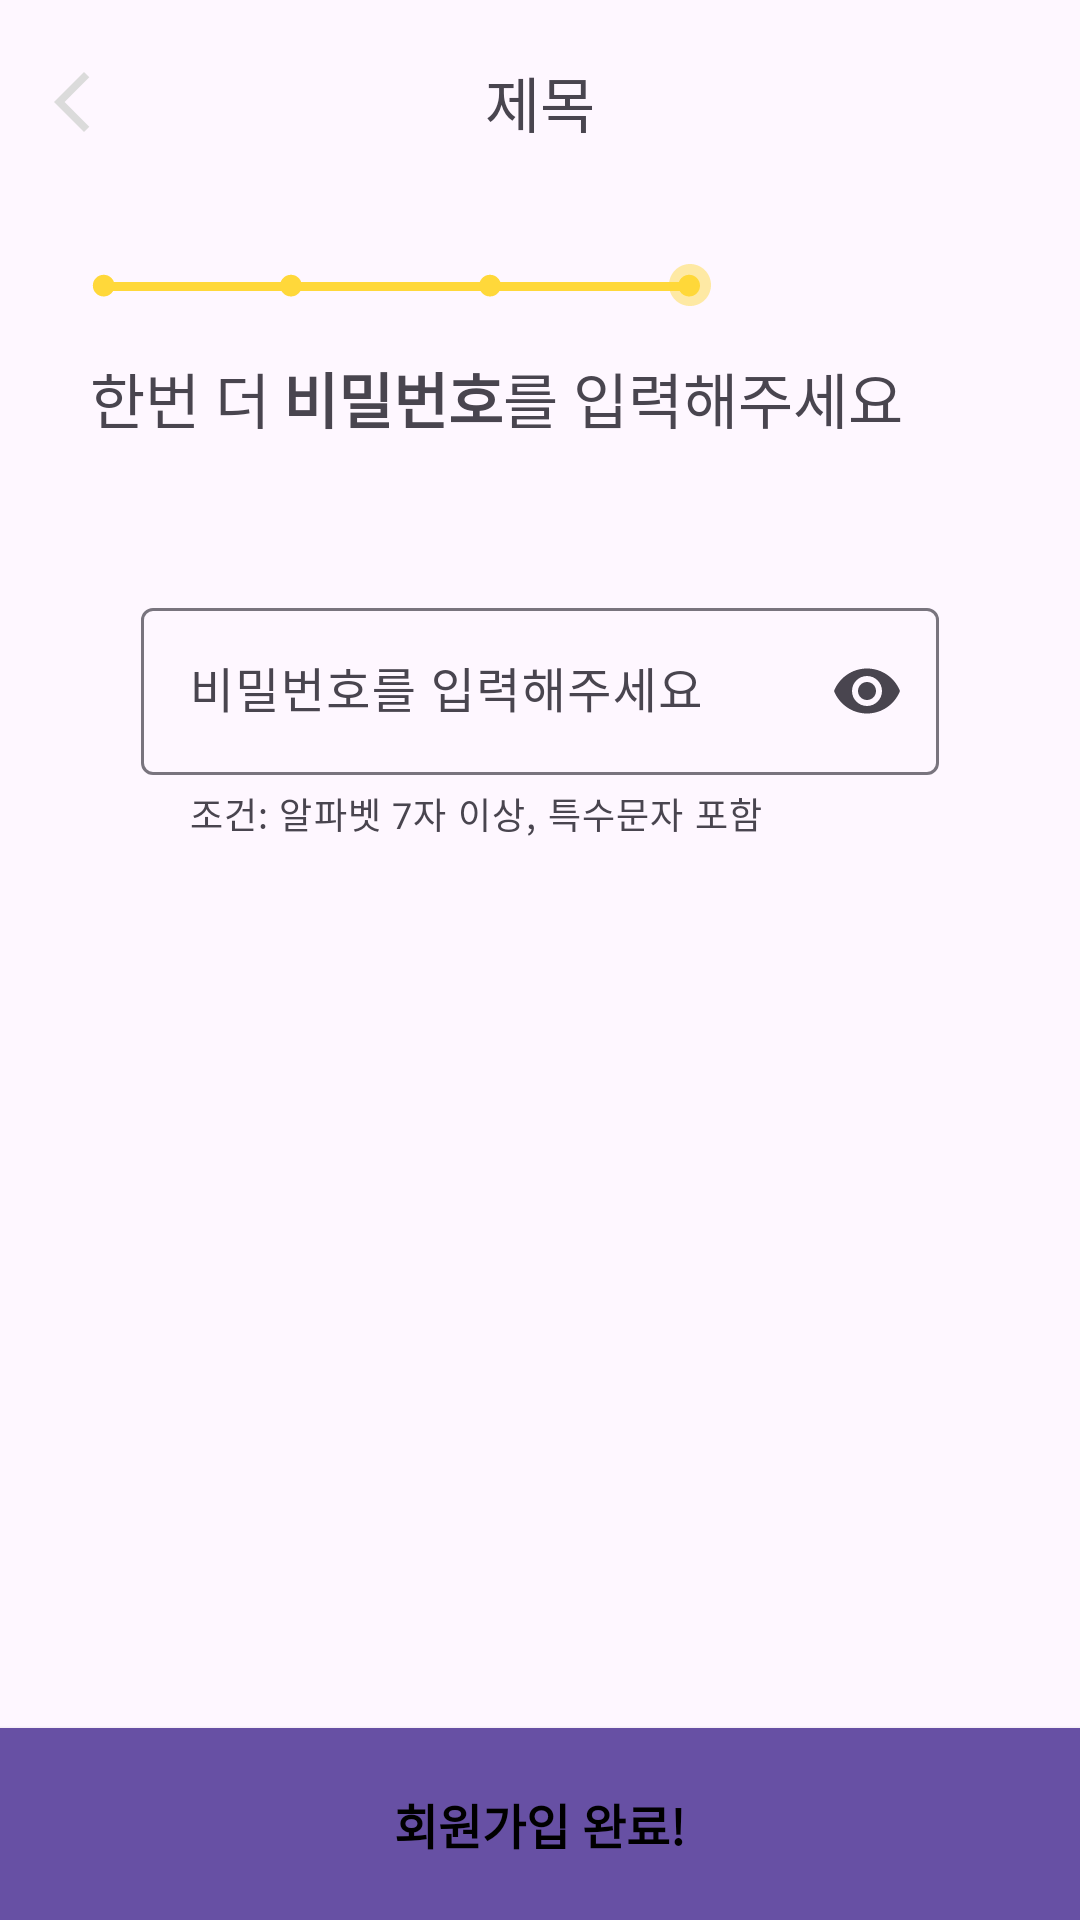

Icons on this 1080×1920 Android screen, each with the point to tap as point (x, y):
arrow back: point (72, 102)
